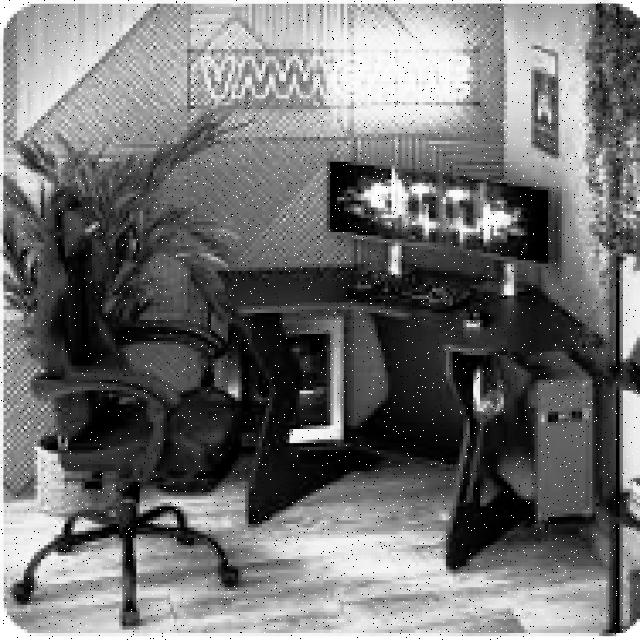book: (10, 183, 242, 626)
table: (214, 264, 606, 566)
